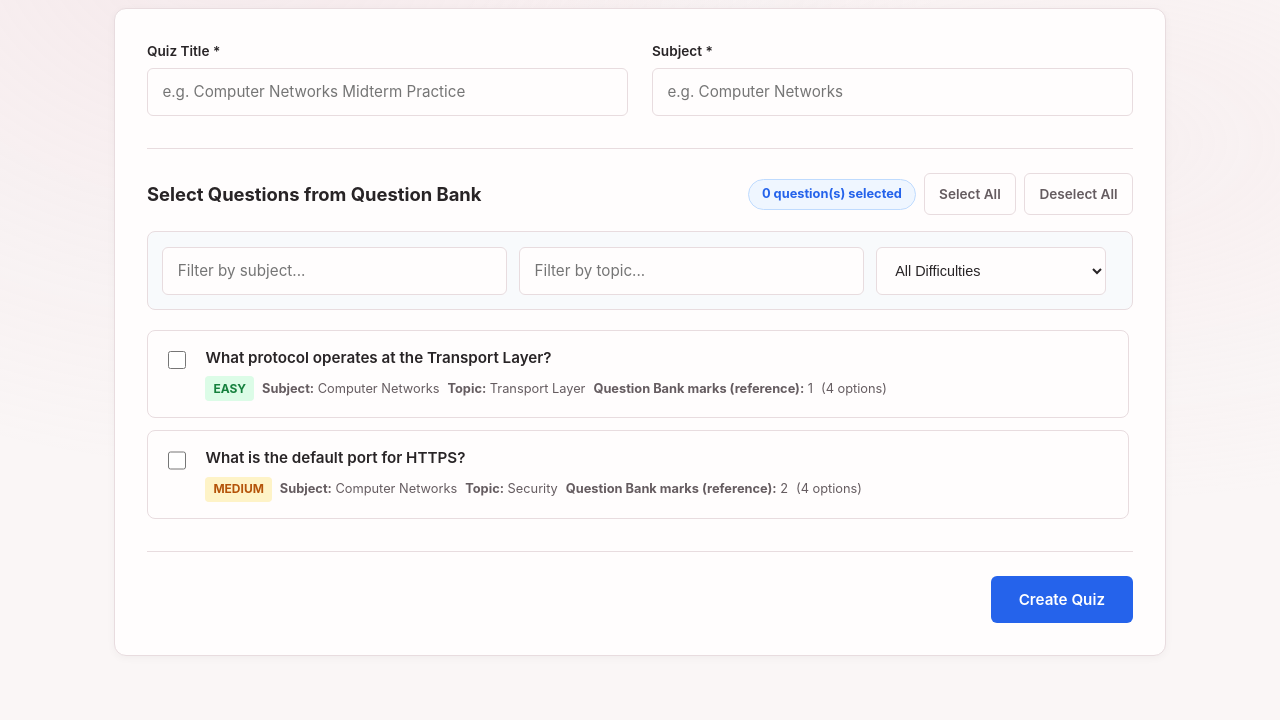
Test case: CreateQuizPage (CSMQ-49) › validates empty title on submission
(page scrolled)
Expected: the text "What protocol operates at the Transport Layer?" is shown, [205,348,552,367]
Click the button "Create Quiz" at (1062, 599), box [991,576,1133,623]
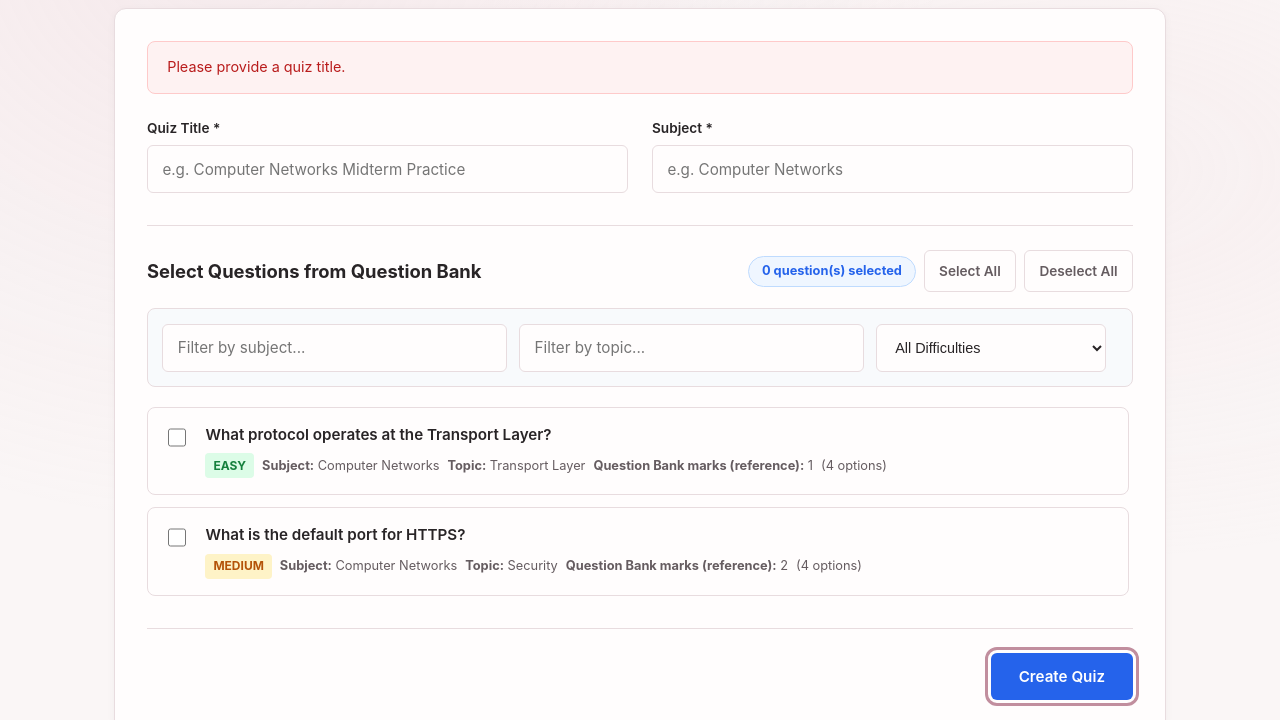
Now the message reads "Please provide a quiz title.", box [167,58,346,75]
